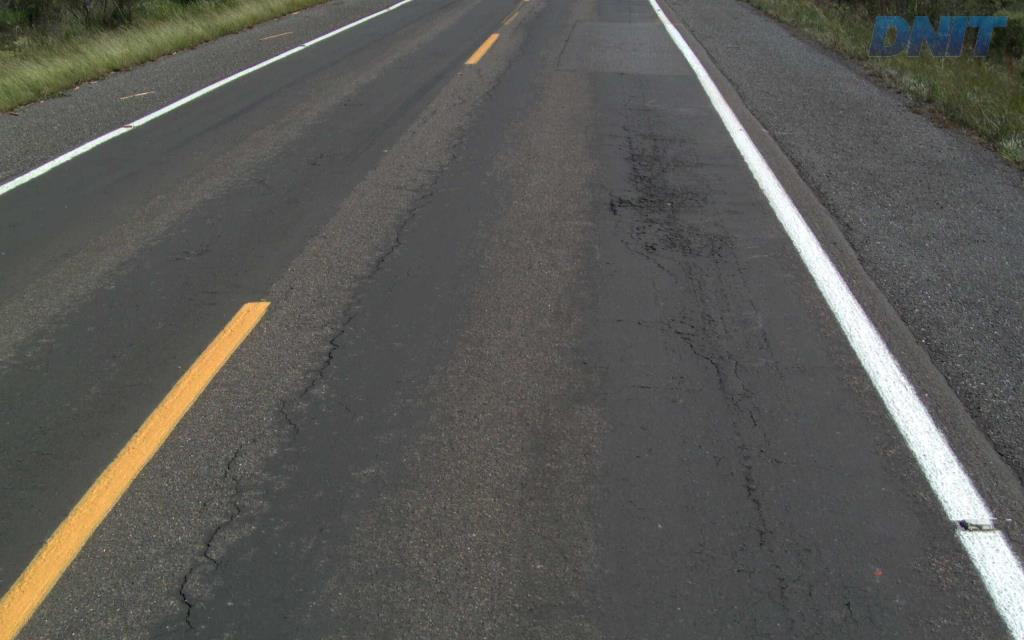crack: (148, 574, 204, 639), (608, 166, 667, 215)
